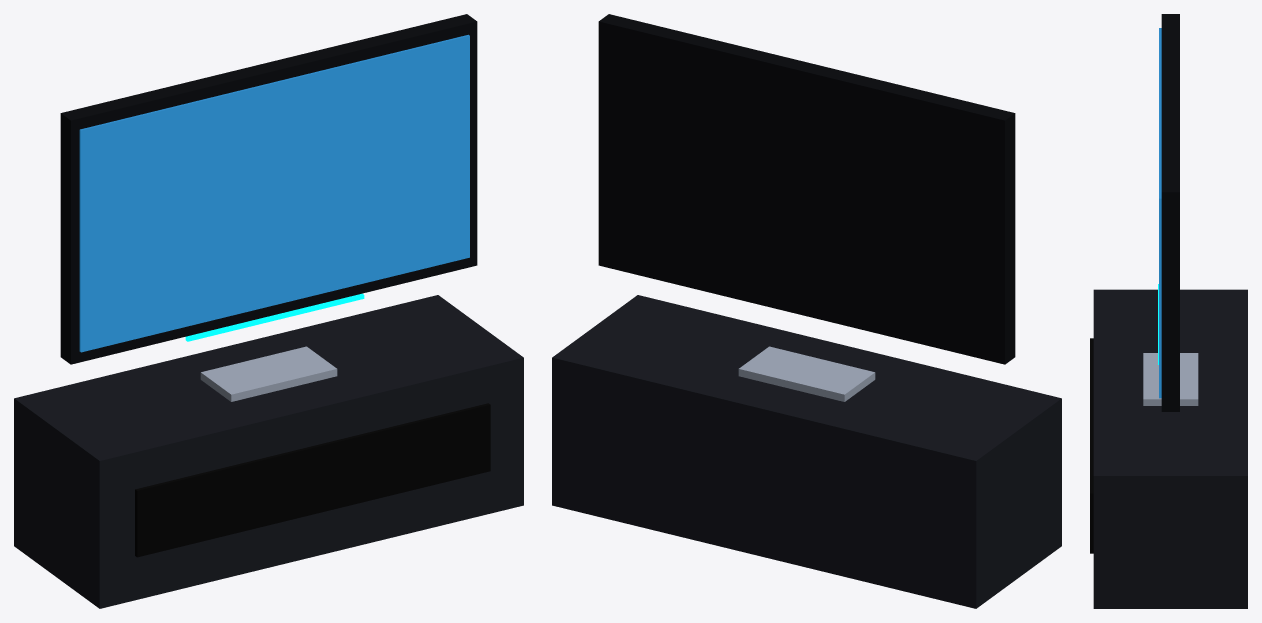
Rendered from tv_cool_0.glb.
3 views of the same model, side by side, from view 1: azimuth 30°, elevation 25°; view 2: azimuth 150°, elevation 25°; view 3: azimuth 270°, elevation 25° (orthographic). The views are drawn at different scales.
Size of the model in its own units: 1.2 by 1.24 by 0.43.
